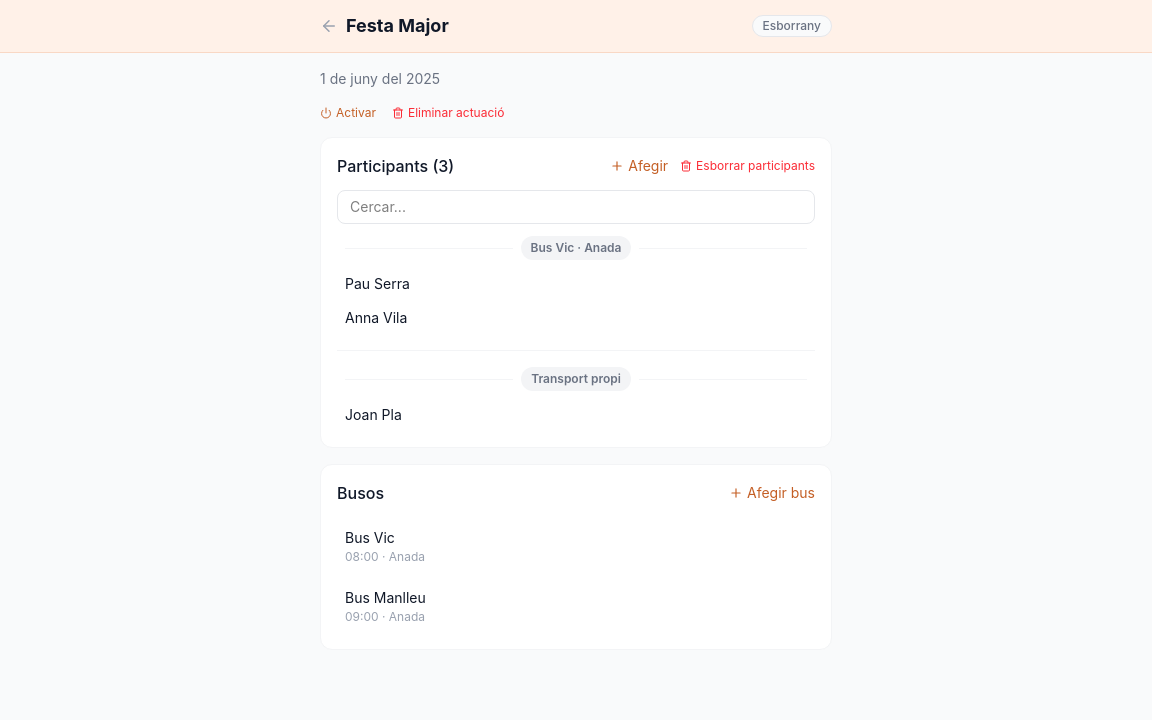
Test: EventAdmin - participants › cerca participants per nom
Expected: the text "Anna Vila" is shown, [345, 308, 407, 328]
Type "Anna" into the search field with placeholder "Cercar...".
click(576, 207); type("Anna")  # box [337, 190, 815, 224]
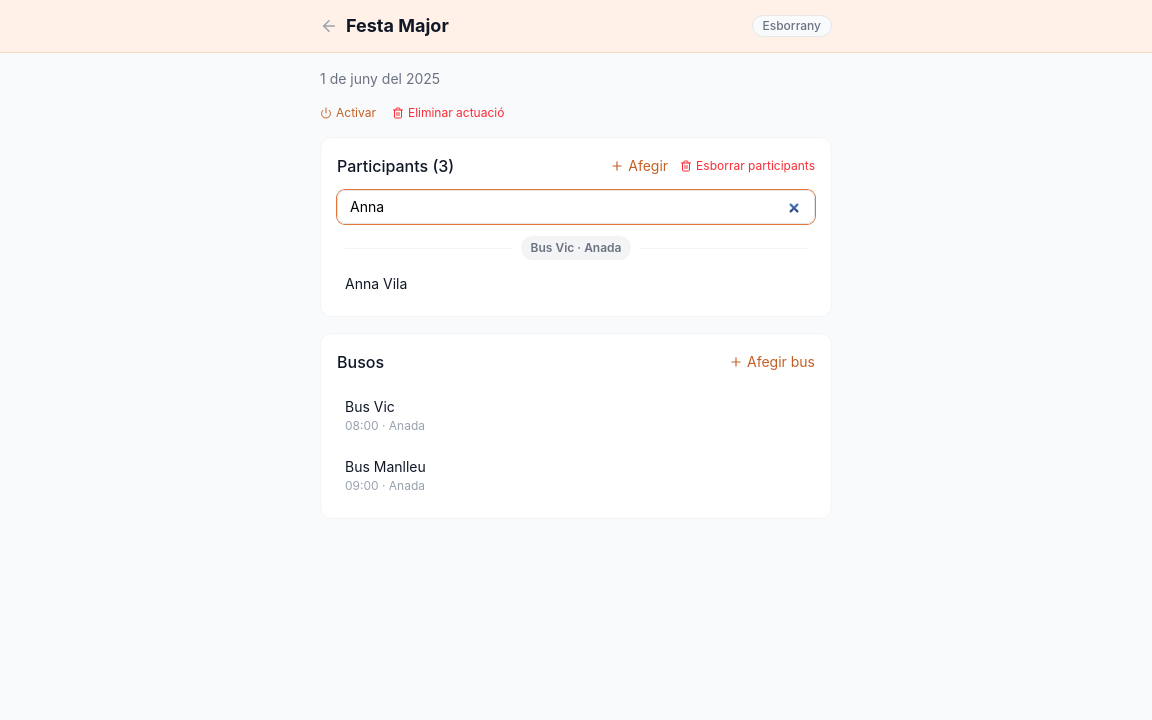
Expected: the text "Anna Vila" is shown, [345, 274, 407, 294]
Expected: the text "Pau Serra" is gone
